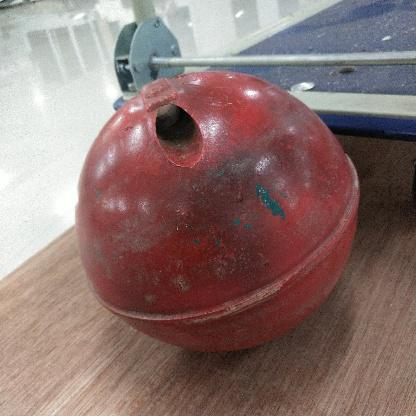red_buoy: (74, 72, 358, 360)
